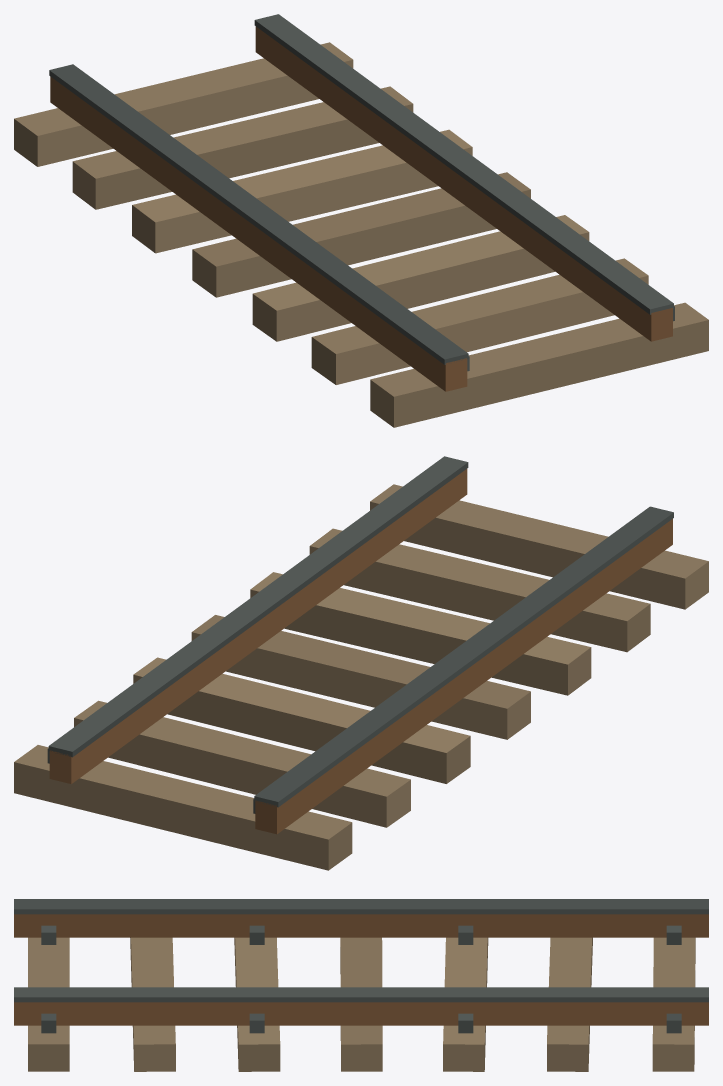
The model's file is straight-track.glb.
3 views of the same model, one above another, from view 1: azimuth 30°, elevation 25°; view 2: azimuth 150°, elevation 25°; view 3: azimuth 270°, elevation 25° (orthographic). The views are drawn at different scales.
Visible parts, largest first — view 1: straight-track; view 2: straight-track; view 3: straight-track.
Boxes of the visible parts, x1,y1,x2,y2 form: straight-track: (14,14,708,427); straight-track: (14,456,708,870); straight-track: (14,899,708,1071).
Bounding box in the file's own units: 1.38 × 0.2665 × 3.
